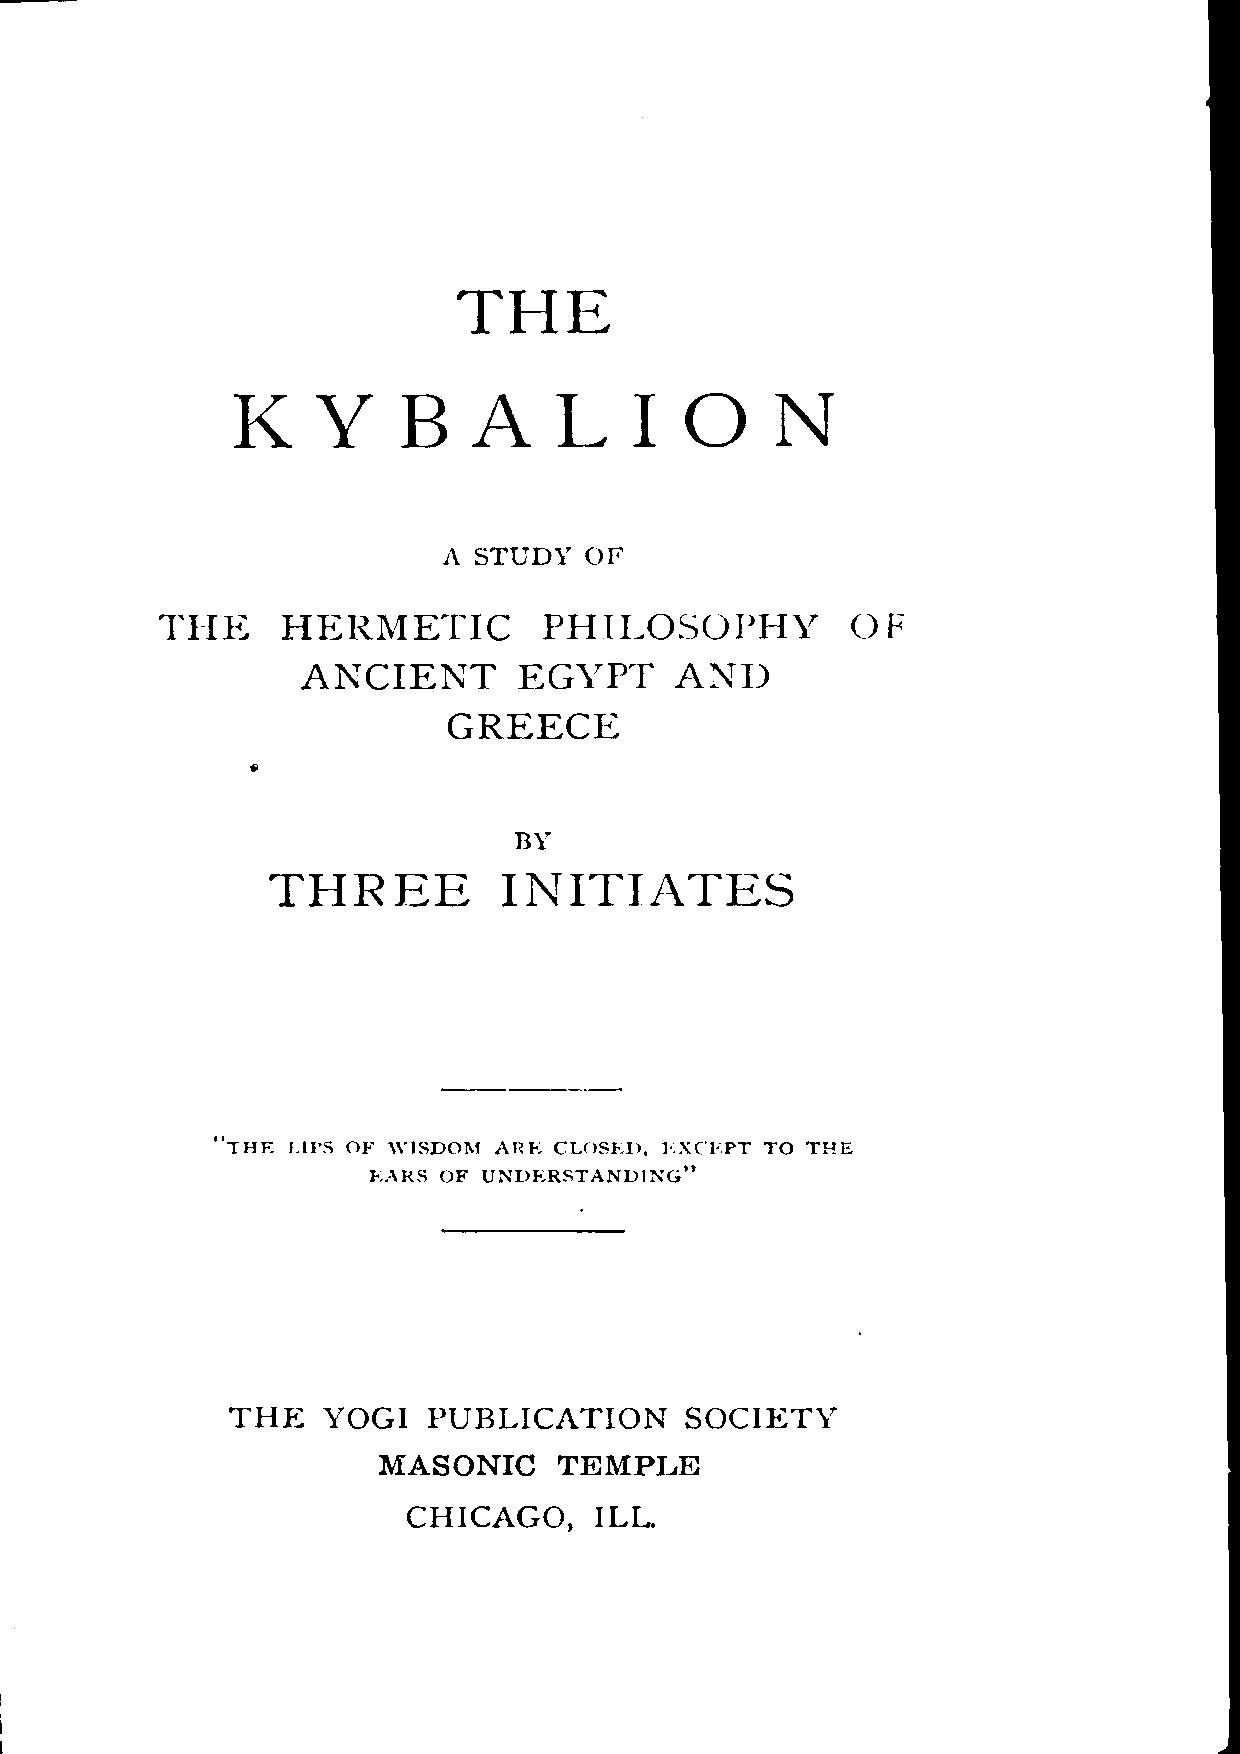author: (264, 829, 794, 909)
title: (227, 285, 833, 450)
